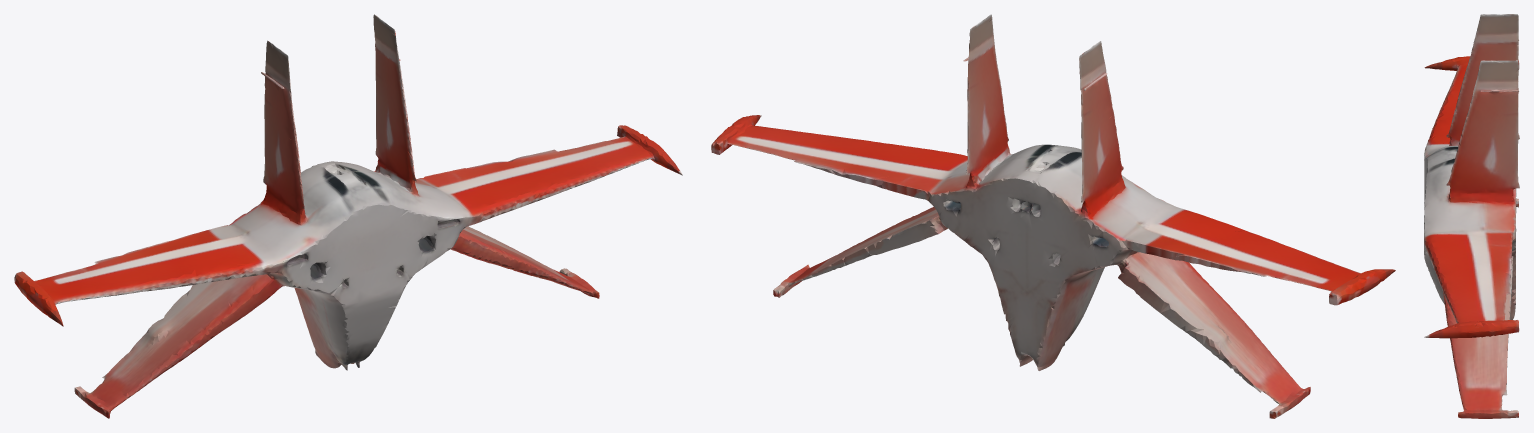
Rendered from viper_wing_L.glb.
3 views of the same model, side by side, from view 1: azimuth 30°, elevation 25°; view 2: azimuth 150°, elevation 25°; view 3: azimuth 270°, elevation 25° (orthographic). The views are drawn at different scales.
Parts seen in each view (by area): view 1: viper_wing_L; view 2: viper_wing_L; view 3: viper_wing_L.
Part boxes in pixels (left/top/right/bottom): viper_wing_L: left=14, top=14, right=682, bottom=418; viper_wing_L: left=711, top=14, right=1395, bottom=418; viper_wing_L: left=1424, top=14, right=1519, bottom=418.
Bounding box in the file's own units: 1.9 × 0.9436 × 0.2826.
Materials: 1 (1 with a texture image).
